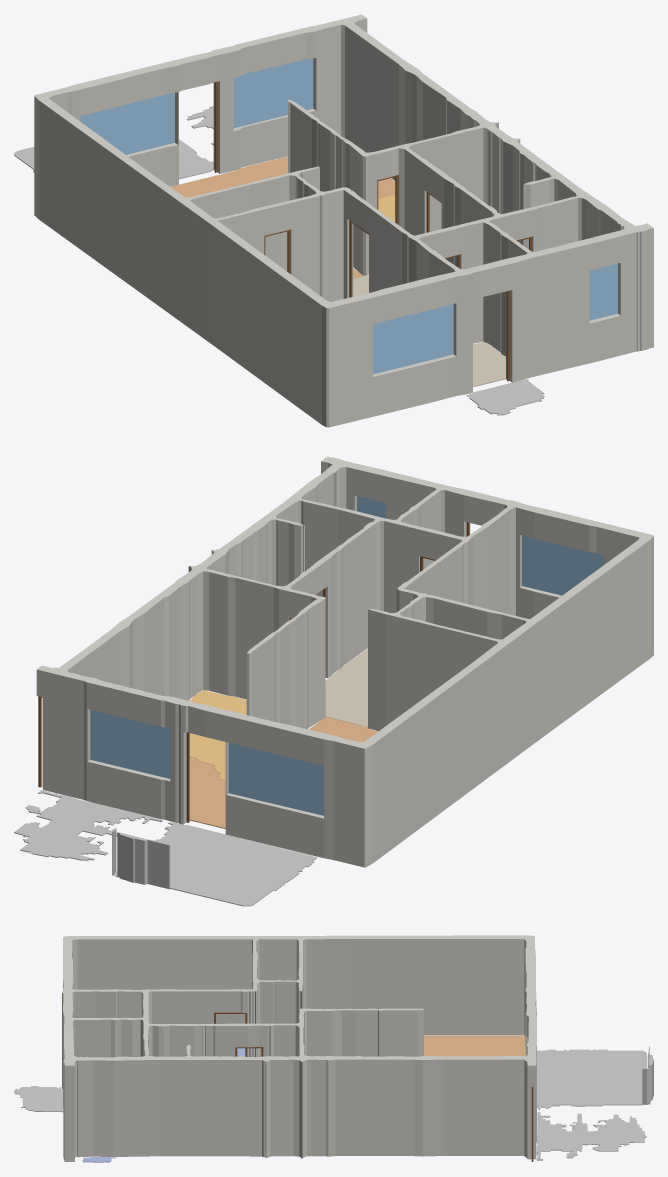
3 views of the same model, one above another, from view 1: azimuth 30°, elevation 25°; view 2: azimuth 150°, elevation 25°; view 3: azimuth 270°, elevation 25° (orthographic). The views are drawn at different scales.
Parts seen in each view (by area): view 1: walls, window_12, window_9, window_10, floor_4_Living_Room, floor_0_Outdoor, window_11, floor_9_Entry, floor_2_Outdoor; view 2: walls, floor_2_Outdoor, window_10, floor_1_Outdoor, window_9, window_12, floor_4_Living_Room, railings, floor_10_Entry, floor_3_Kitchen; view 3: walls, floor_2_Outdoor, floor_1_Outdoor, floor_4_Living_Room, floor_0_Outdoor, railings.
Part boxes in pixels (bbox=[...]): walls: bbox=[34, 14, 653, 427]; window_12: bbox=[373, 304, 453, 374]; window_9: bbox=[233, 58, 313, 128]; window_10: bbox=[80, 93, 174, 154]; floor_4_Living_Room: bbox=[170, 156, 395, 278]; floor_0_Outdoor: bbox=[466, 379, 544, 415]; window_11: bbox=[589, 263, 617, 320]; floor_9_Entry: bbox=[473, 342, 506, 387]; floor_2_Outdoor: bbox=[14, 139, 214, 179]; walls: bbox=[36, 456, 653, 867]; floor_2_Outdoor: bbox=[115, 822, 317, 906]; window_10: bbox=[228, 743, 323, 815]; floor_1_Outdoor: bbox=[14, 790, 162, 861]; window_9: bbox=[90, 709, 170, 778]; window_12: bbox=[522, 535, 603, 595]; floor_4_Living_Room: bbox=[189, 717, 378, 828]; railings: bbox=[112, 828, 170, 889]; floor_10_Entry: bbox=[325, 648, 367, 727]; floor_3_Kitchen: bbox=[189, 690, 246, 780]; walls: bbox=[62, 935, 536, 1161]; floor_2_Outdoor: bbox=[537, 1049, 647, 1109]; floor_1_Outdoor: bbox=[536, 1112, 646, 1160]; floor_4_Living_Room: bbox=[424, 1035, 525, 1056]; floor_0_Outdoor: bbox=[14, 1086, 63, 1112]; railings: bbox=[642, 1046, 653, 1104].
Size of the model in its own units: 7.82 by 2.72 by 16.24.
